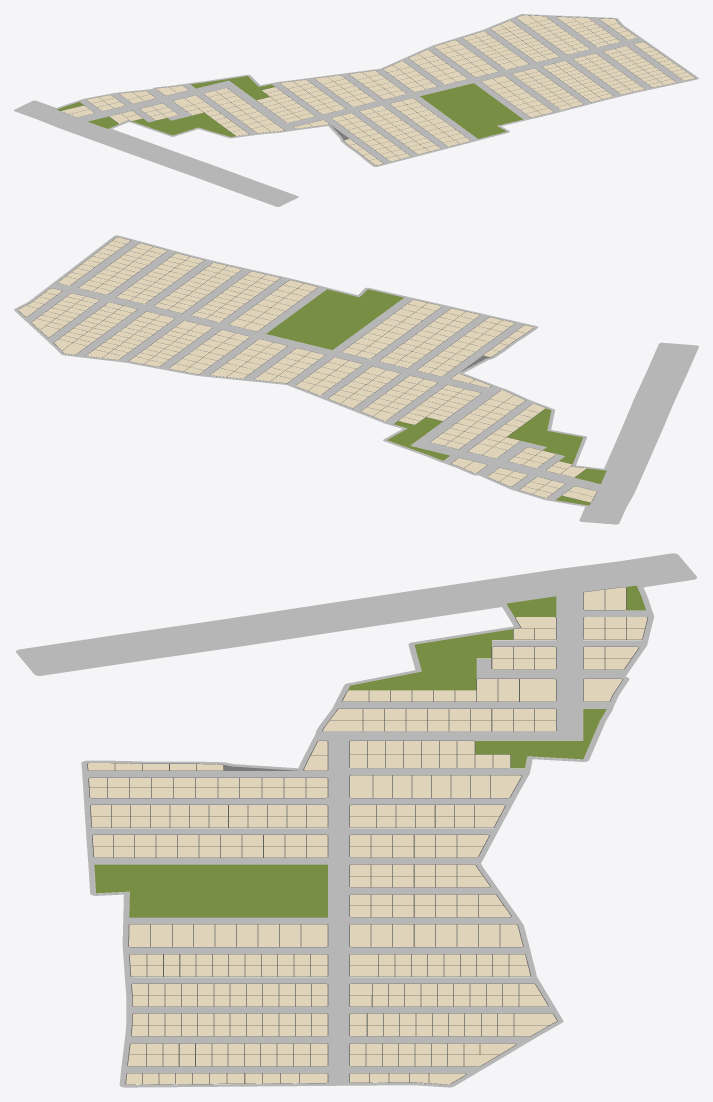
The picture shows the model from 3 angles, top to bottom: view 1: azimuth 30°, elevation 25°; view 2: azimuth 150°, elevation 25°; view 3: azimuth 270°, elevation 25°; orthographic projection. The views are drawn at different scales.
Visible parts, largest first — view 1: _Plots, Mesh_Road, Mesh_PlotOutlines, Mesh_Green; view 2: _Plots, Mesh_Road, Mesh_PlotOutlines, Mesh_Green; view 3: _Plots, Mesh_Road, Mesh_Green, Mesh_PlotOutlines.
Part boxes in pixels (box(x1,y1,x2,y2)): _Plots: box(61, 15, 694, 165); Mesh_Road: box(14, 14, 698, 206); Mesh_PlotOutlines: box(61, 15, 695, 165); Mesh_Green: box(57, 76, 522, 138); _Plots: box(18, 237, 596, 502); Mesh_Road: box(14, 235, 698, 524); Mesh_PlotOutlines: box(18, 237, 597, 502); Mesh_Green: box(266, 289, 606, 505); _Plots: box(88, 587, 647, 1084); Mesh_Road: box(16, 553, 696, 1087); Mesh_Green: box(94, 585, 645, 917); Mesh_PlotOutlines: box(87, 587, 647, 1084).
Bounding box in the file's own units: 252 × 0.06 × 136.
